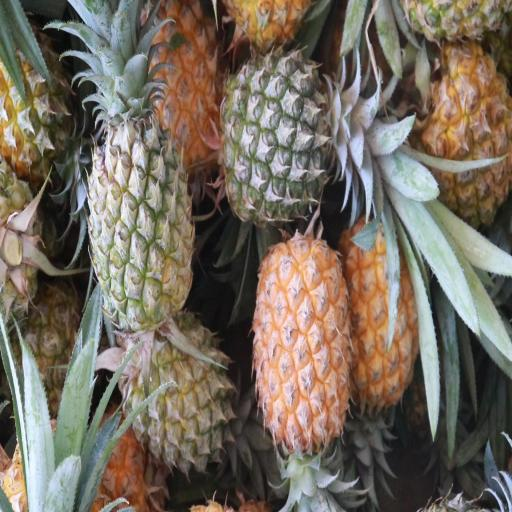------------------------------: (91, 118, 192, 318), (126, 318, 228, 465)
Pineapple - v8 v1: (256, 235, 350, 440), (344, 222, 422, 403), (424, 50, 510, 213), (139, 0, 222, 166)
